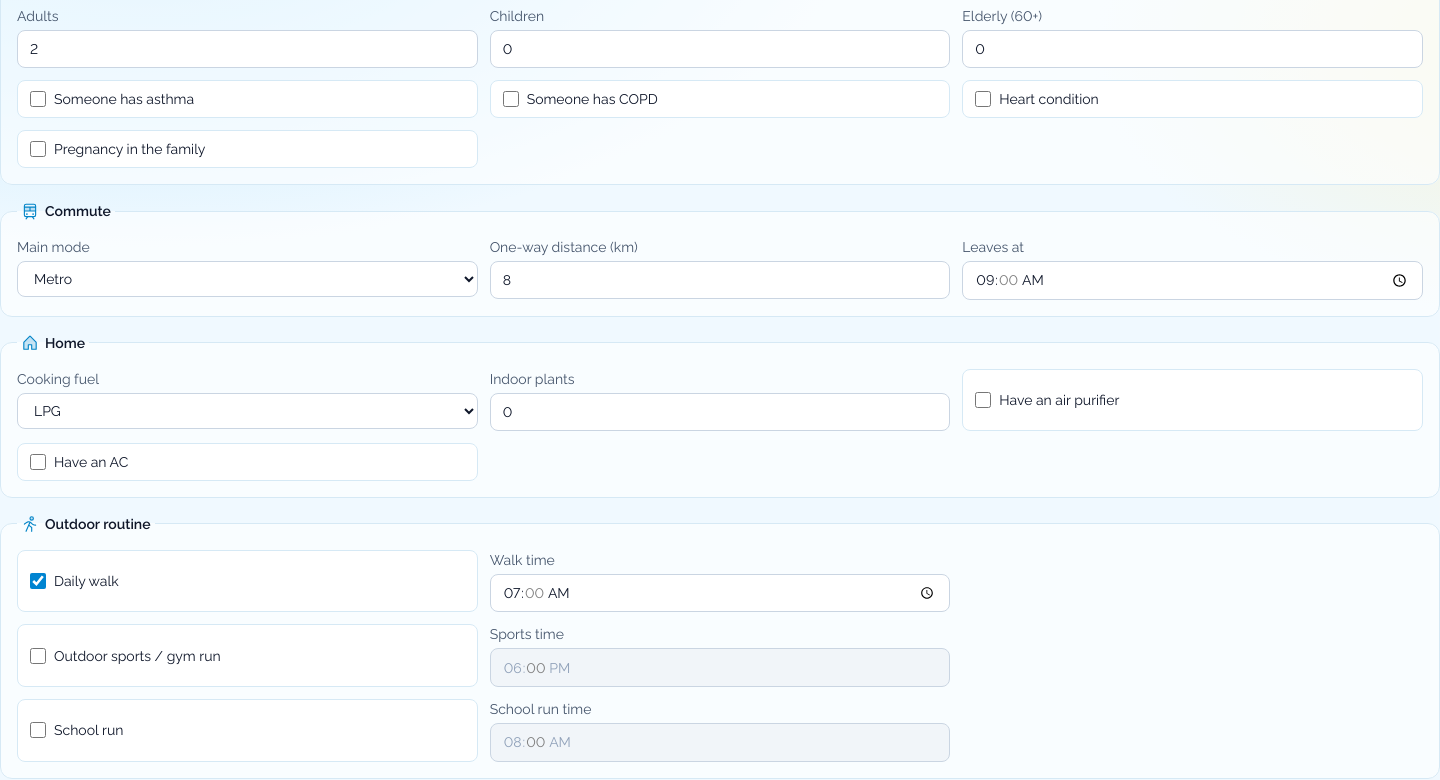
Test: ProfileForm › blocks a negative count and links the error to its field
The image size is (1440, 780).
Replace the text in the number field labelled "Children" with "-1": [720, 49] box left=490, top=30, right=950, bottom=68
(page scrolled)
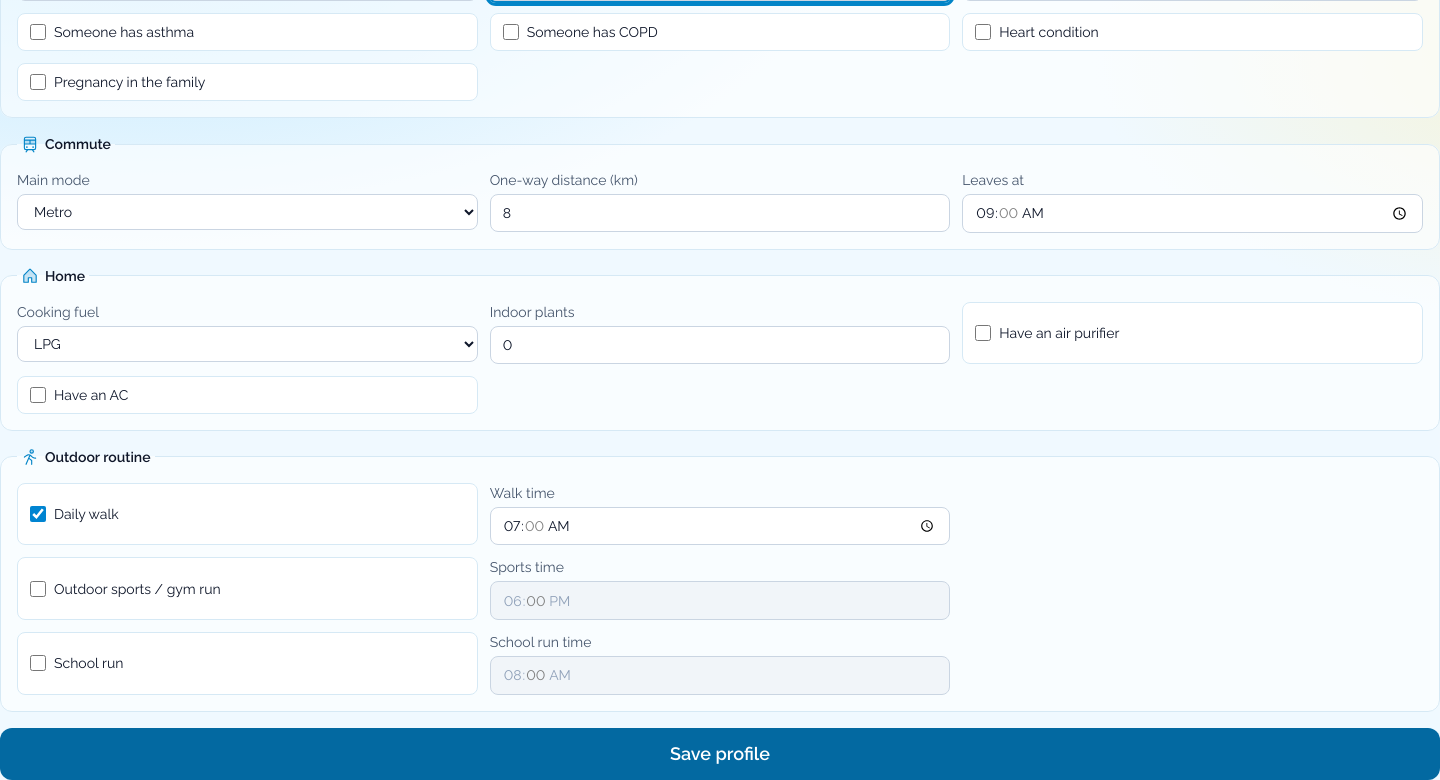
Click the button "Save profile": [720, 754] box left=0, top=728, right=1439, bottom=779
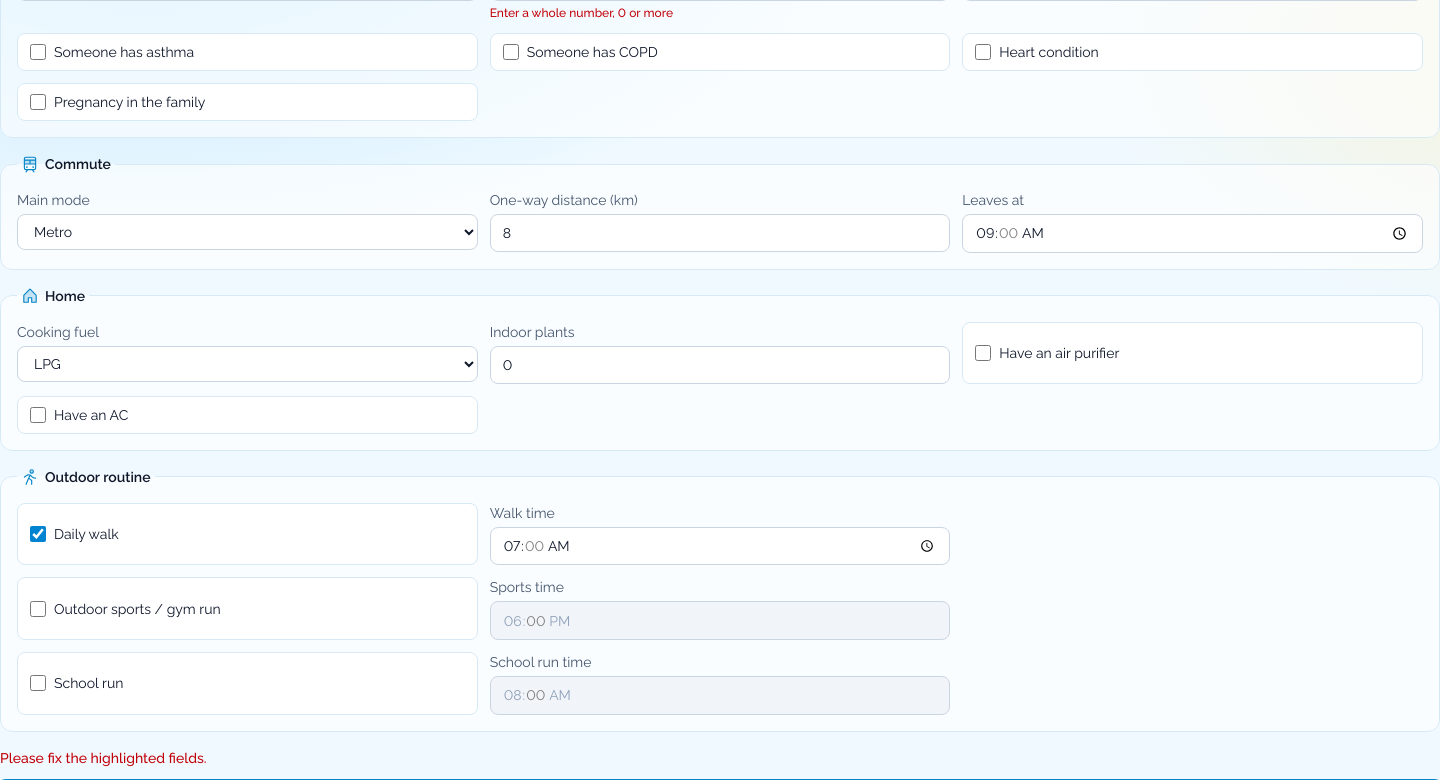
expect the message "Enter a whole number, 0 or more" is shown: met, box left=490, top=6, right=673, bottom=20
